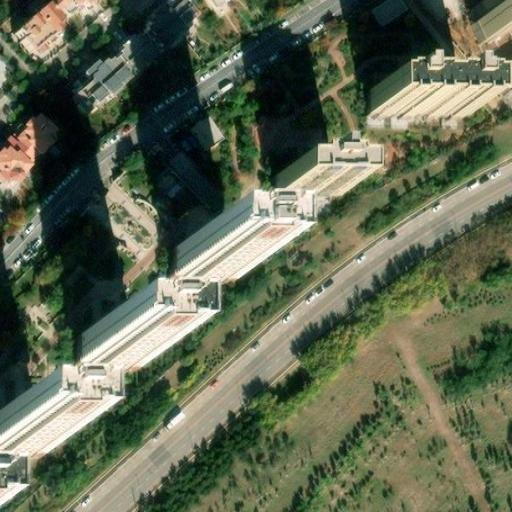building: (67, 5, 204, 128), (0, 113, 62, 197), (374, 89, 473, 117), (171, 247, 240, 278), (77, 334, 141, 365), (283, 158, 346, 187), (185, 114, 224, 154), (493, 62, 512, 104)
